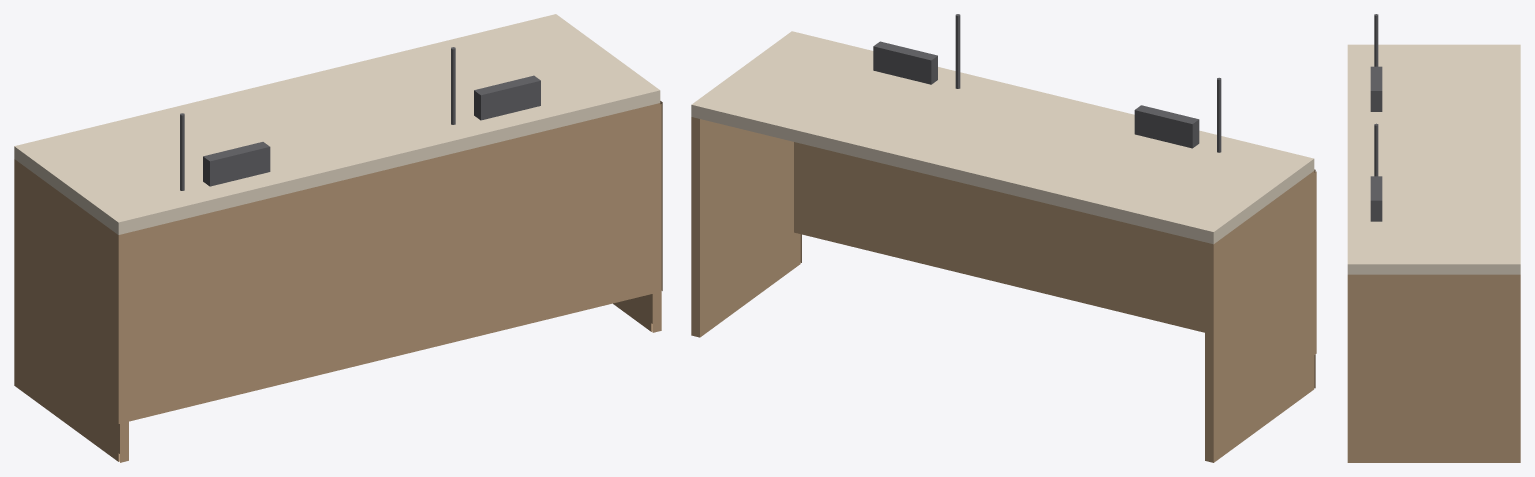
Rendered from Desk_Case.fbx.
3 views of the same model, side by side, from view 1: azimuth 30°, elevation 25°; view 2: azimuth 150°, elevation 25°; view 3: azimuth 270°, elevation 25° (orthographic). The views are drawn at different scales.
Parts seen in each view (by area): view 1: Desk_Case; view 2: Desk_Case; view 3: Desk_Case.
Boxes of the visible parts, bbox=[...] form: Desk_Case: bbox=[14, 14, 662, 462]; Desk_Case: bbox=[691, 14, 1316, 462]; Desk_Case: bbox=[1347, 14, 1520, 462].
Bounding box in the file's own units: 1.82 × 1 × 0.608.
